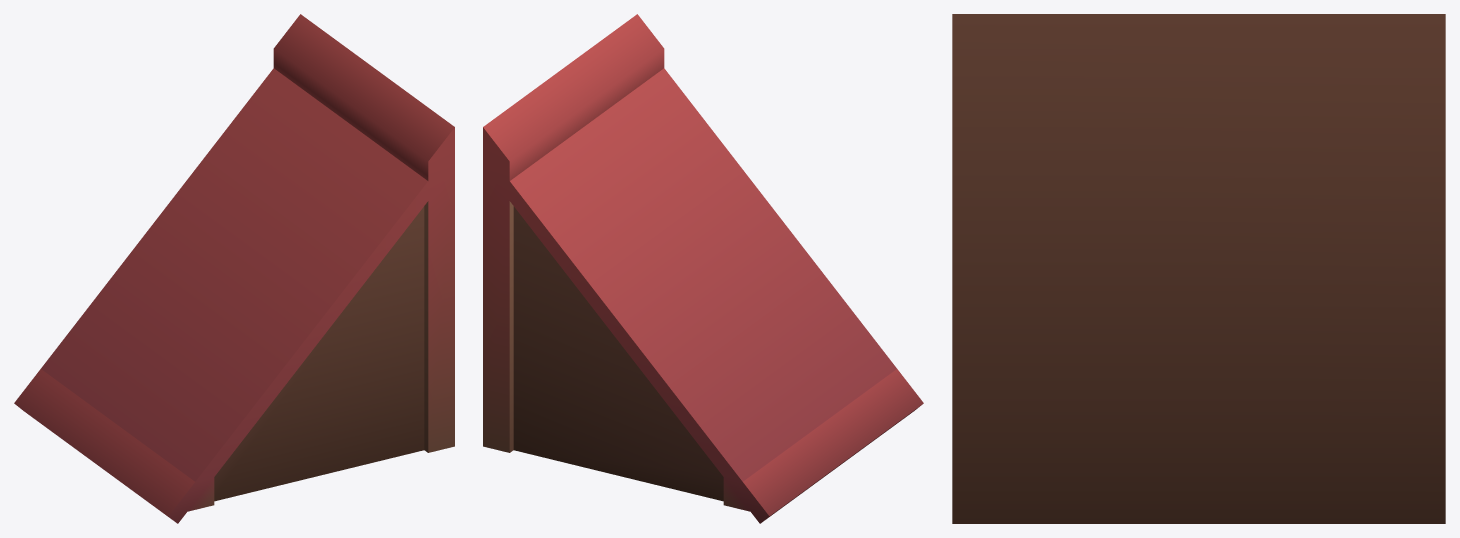
Rendered from roof-high.glb.
The picture shows the model from 3 angles, left to right: view 1: azimuth 30°, elevation 25°; view 2: azimuth 150°, elevation 25°; view 3: azimuth 270°, elevation 25°; orthographic projection. The views are drawn at different scales.
Parts seen in each view (by area): view 1: roof-high; view 2: roof-high; view 3: roof-high.
Part boxes in pixels (x1,y1,x2,y2): roof-high: (14, 14, 454, 523); roof-high: (483, 14, 923, 523); roof-high: (952, 14, 1445, 523).
Size of the model in its own units: 3.21 by 3.53 by 3.
